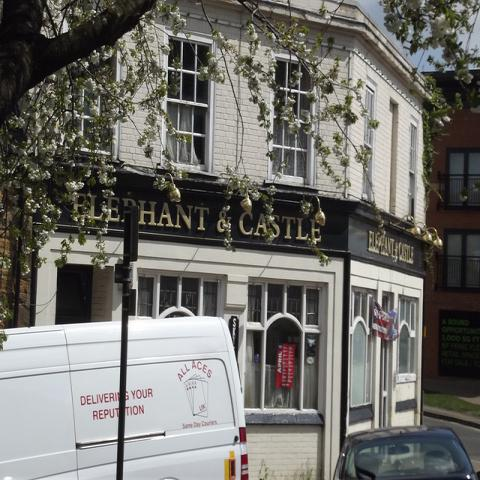car: (331, 426, 476, 475)
truck: (0, 316, 252, 474)
